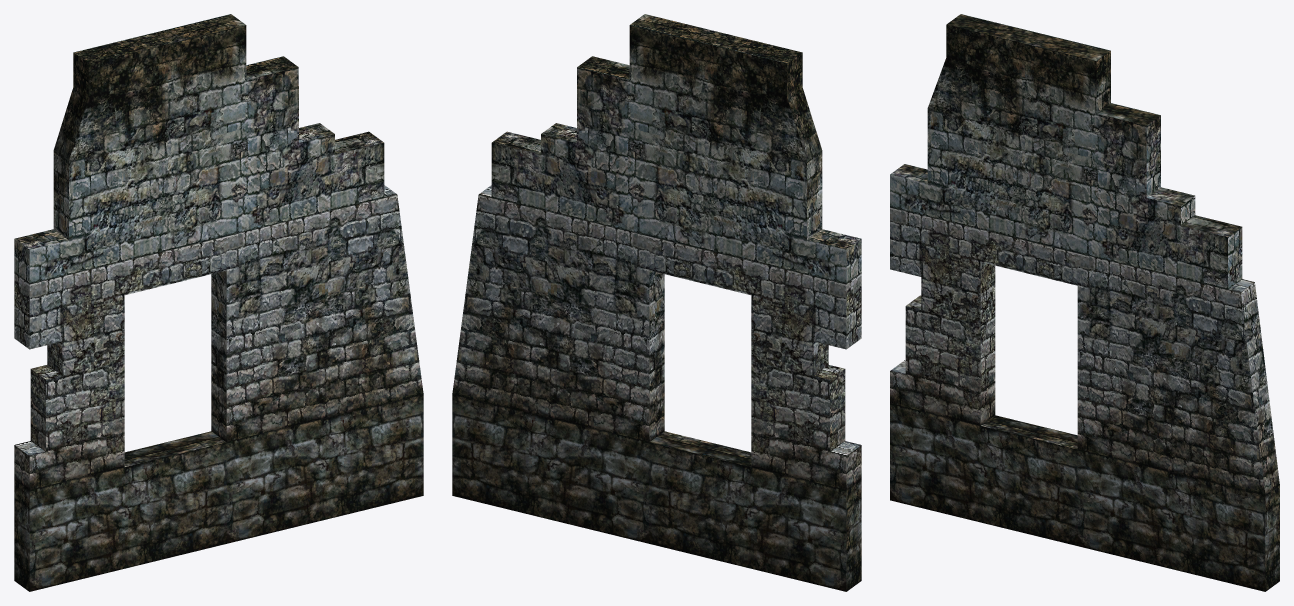
3 views of the same model, side by side, from view 1: azimuth 30°, elevation 25°; view 2: azimuth 150°, elevation 25°; view 3: azimuth 330°, elevation 25° (orthographic). The views are drawn at different scales.
Parts seen in each view (by area): view 1: hr_hf2-col; view 2: hr_hf2-col; view 3: hr_hf2-col.
Part boxes in pixels (x1,y1,x2,y2): hr_hf2-col: (14,14,423,591); hr_hf2-col: (452,14,861,591); hr_hf2-col: (890,14,1279,591).
Size of the model in its own units: 6 by 7.48 by 0.4005.
Materials: 5 (5 with a texture image).
